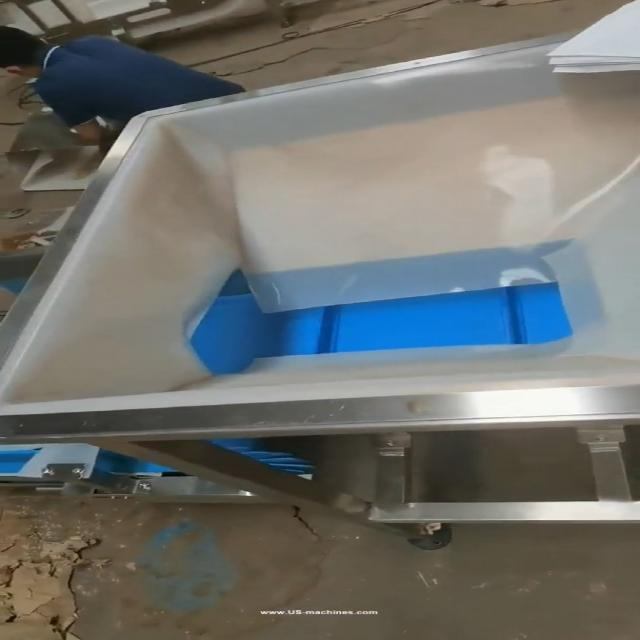Convoyeur: (0, 231, 640, 482)
